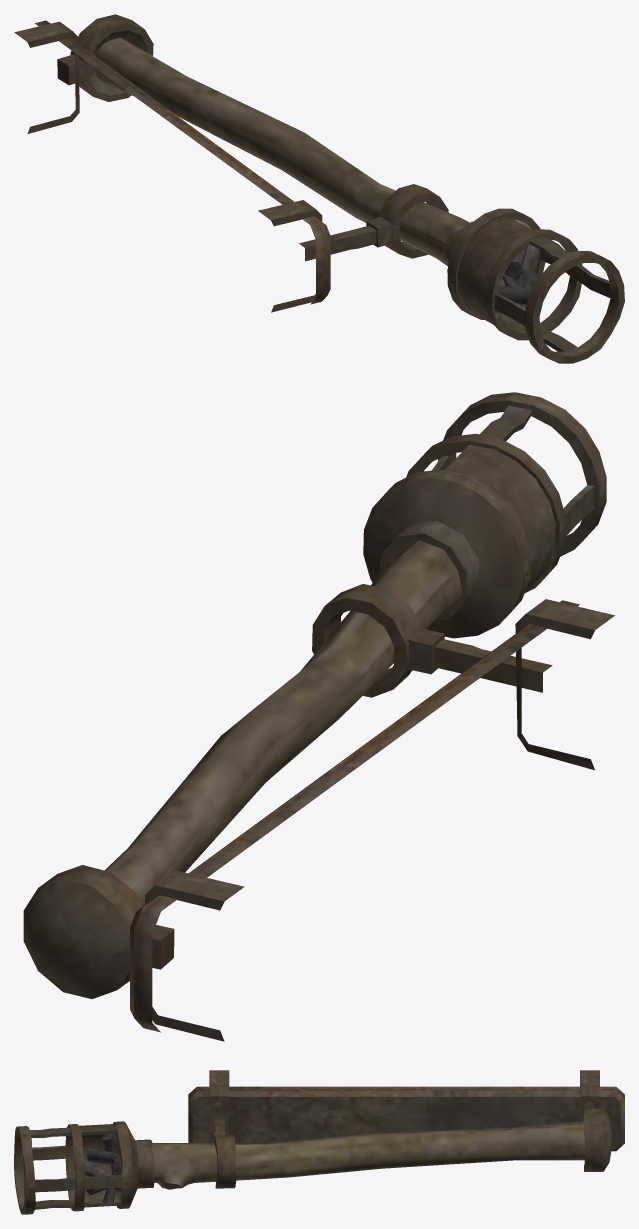
The model's file is VIK_PRO_Torch_Medium_01A_LOD0-transformed.glb.
3 views of the same model, one above another, from view 1: azimuth 30°, elevation 25°; view 2: azimuth 150°, elevation 25°; view 3: azimuth 270°, elevation 25° (orthographic). The views are drawn at different scales.
Parts seen in each view (by area): view 1: VIK_PRO_Torch_Medium_01A_LOD0; view 2: VIK_PRO_Torch_Medium_01A_LOD0; view 3: VIK_PRO_Torch_Medium_01A_LOD0.
Boxes of the visible parts, x1,y1,x2,y2 form: VIK_PRO_Torch_Medium_01A_LOD0: (14, 14, 624, 363); VIK_PRO_Torch_Medium_01A_LOD0: (23, 392, 614, 1041); VIK_PRO_Torch_Medium_01A_LOD0: (14, 1070, 624, 1214).
Size of the model in its own units: 0.00469 by 0.00206 by 0.014.
Materials: 3 (3 with a texture image).
